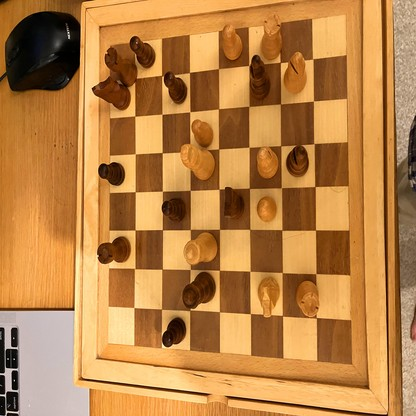bishop_black: (249, 56, 270, 98), (287, 145, 310, 178)
bishop_white: (285, 52, 307, 94), (257, 147, 278, 178)
king_white: (181, 144, 215, 179)
knight_black: (93, 75, 131, 111), (224, 187, 244, 219)
knight_white: (258, 278, 280, 317)
pawn_black: (130, 37, 156, 67), (164, 72, 187, 104), (162, 317, 186, 346), (162, 199, 187, 222), (99, 163, 125, 185)
pawn_white: (223, 24, 242, 60), (192, 120, 213, 147), (258, 196, 277, 221)
queen_black: (183, 272, 216, 308)
queen_white: (184, 233, 218, 265)
rock_black: (105, 47, 137, 87), (98, 236, 131, 264)
rock_white: (261, 13, 282, 60), (297, 280, 318, 317)
